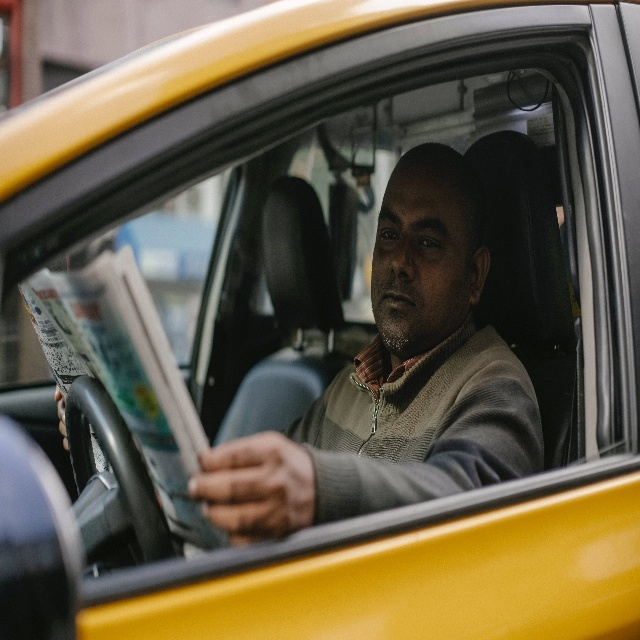Sin_guantes: (185, 430, 316, 546), (55, 384, 69, 452)
